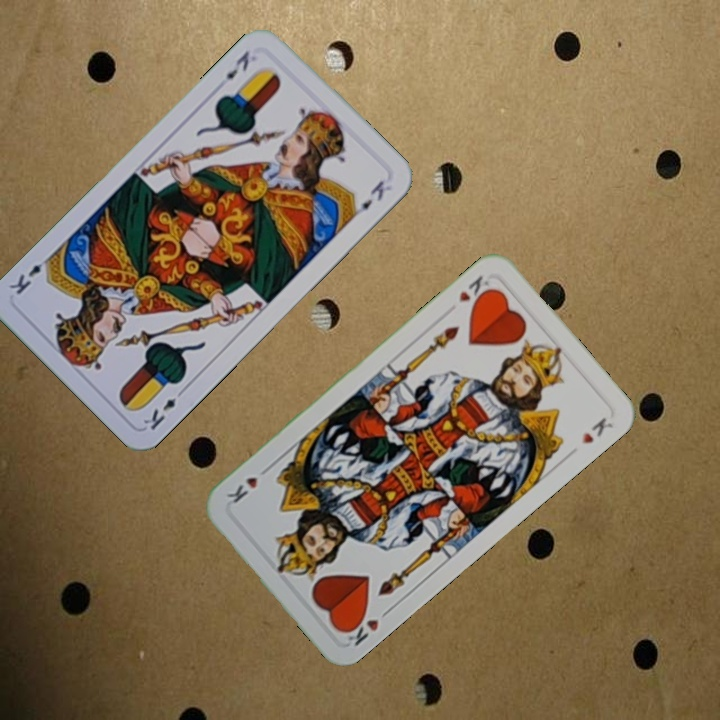EK: (139, 384, 189, 433), (221, 46, 253, 83)
HK: (339, 604, 394, 649), (454, 271, 495, 309)
